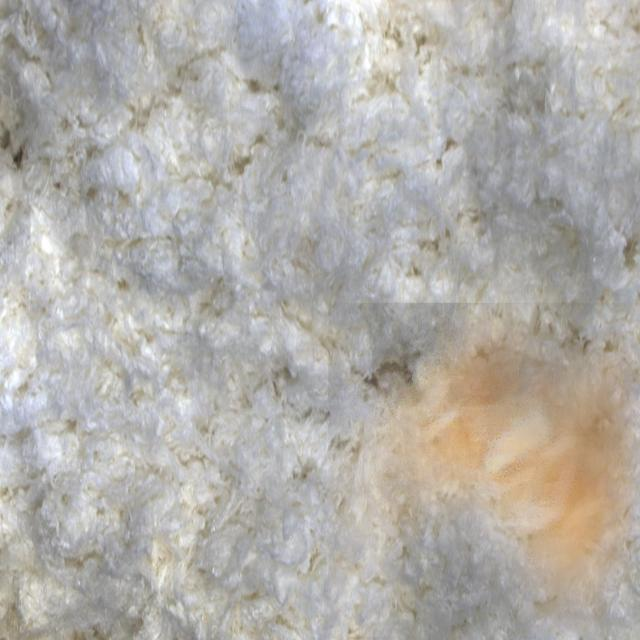dust: (328, 303, 640, 637)
